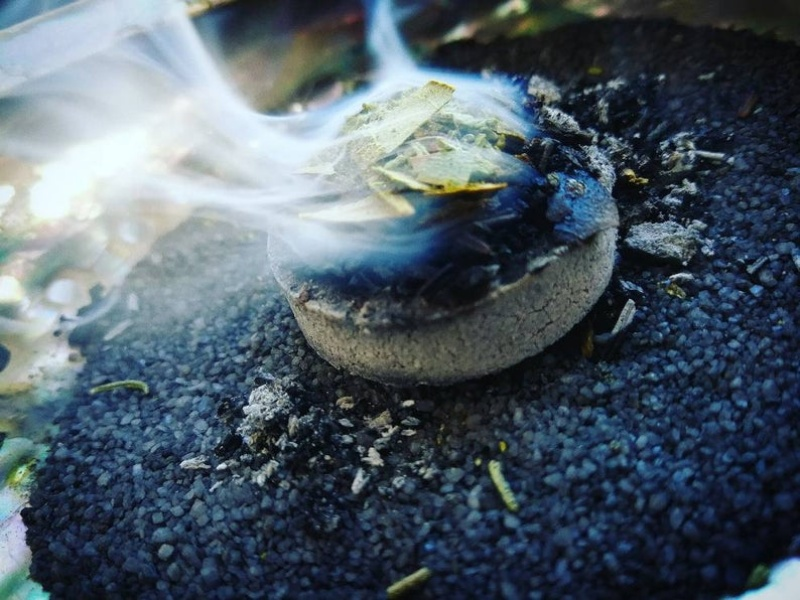smoke: (5, 4, 314, 244)
